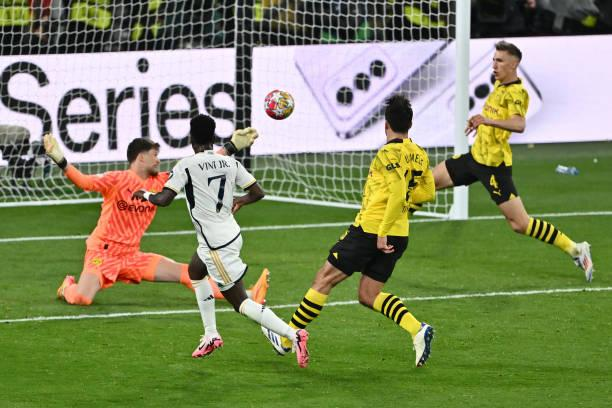Goalkeeper: (44, 124, 277, 308)
Player: (134, 115, 310, 366), (288, 94, 435, 366), (433, 41, 590, 281)
ball: (264, 91, 294, 120)
